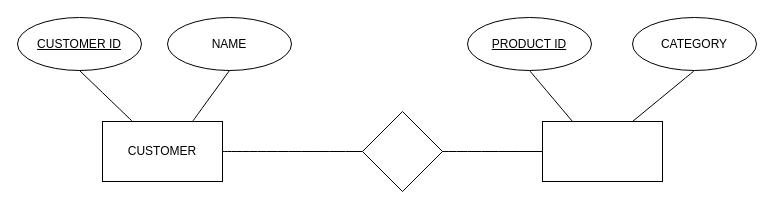
Some shapes in this 774 by 209 pixel diagram are drawn without their labels. Each missing label, with the centre of its shape:
"BUYS" belongs at point 402,151.
"PRODUCTS" belongs at point 602,151.
